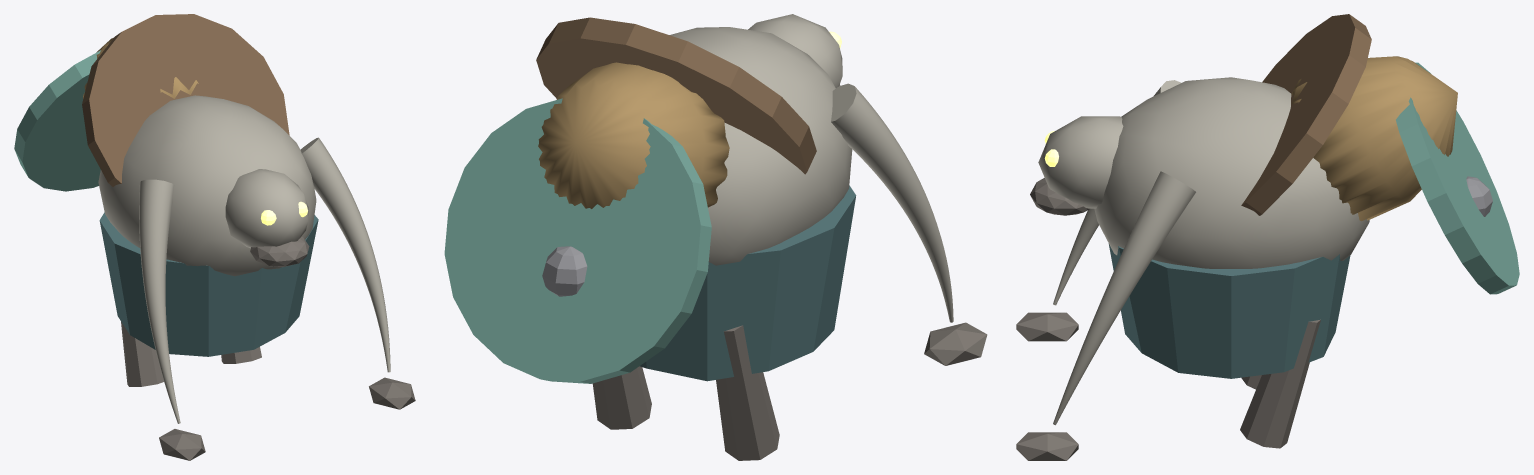
The model's file is bell_ghoul.glb.
3 views of the same model, side by side, from view 1: azimuth 30°, elevation 25°; view 2: azimuth 150°, elevation 25°; view 3: azimuth 270°, elevation 25° (orthographic). The views are drawn at different scales.
Parts seen in each view (by area): view 1: bell_ghoul; view 2: bell_ghoul; view 3: bell_ghoul.
Part boxes in pixels (bbox=[...]): bell_ghoul: bbox=[14, 14, 415, 460]; bell_ghoul: bbox=[444, 14, 987, 460]; bell_ghoul: bbox=[1016, 14, 1519, 460].
Size of the model in its own units: 0.9431 by 1.21 by 1.42.
